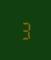three: (19, 20, 30, 39)
